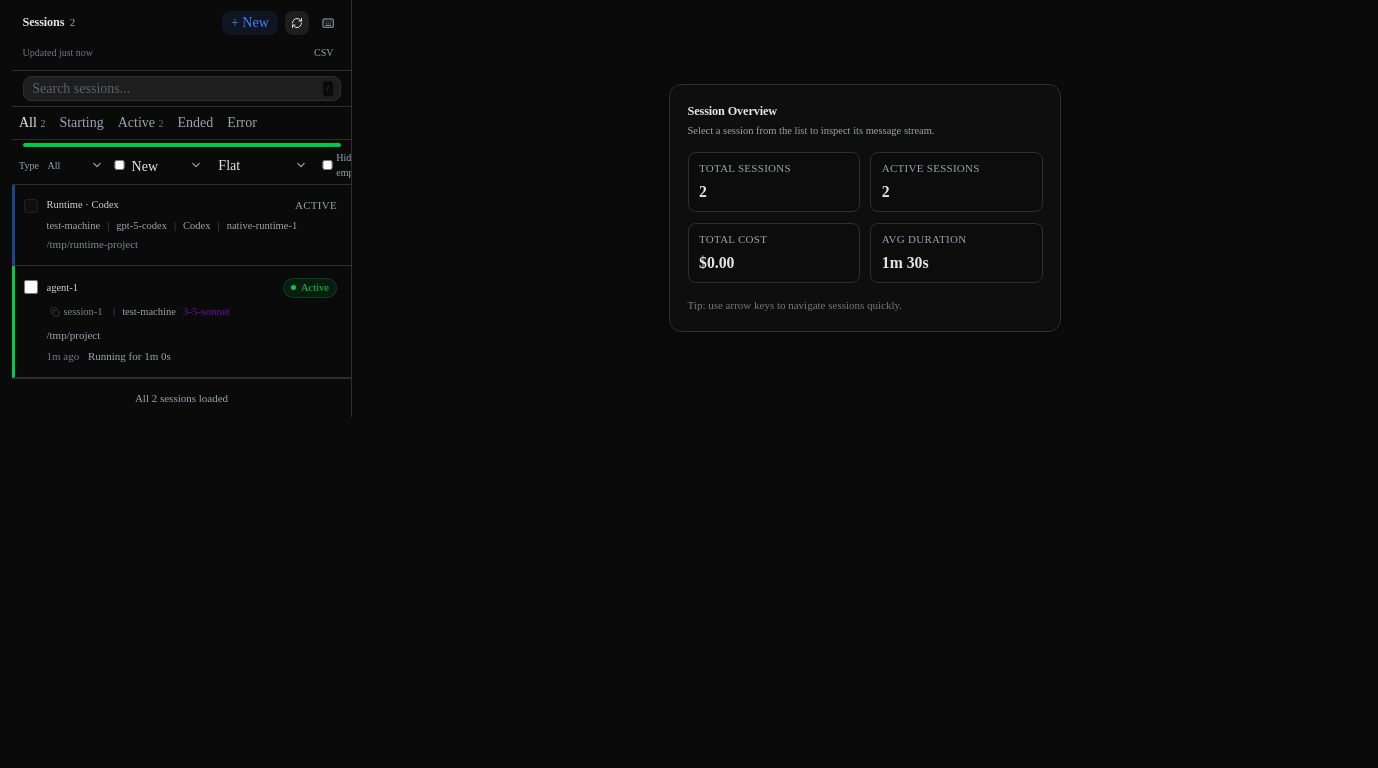
Scenario: SessionsPage › shows runtime-specific detail actions when selecting a runtime row
Click the text "Runtime · Codex".
click(83, 205)  # box [46, 198, 119, 212]
(page scrolled)
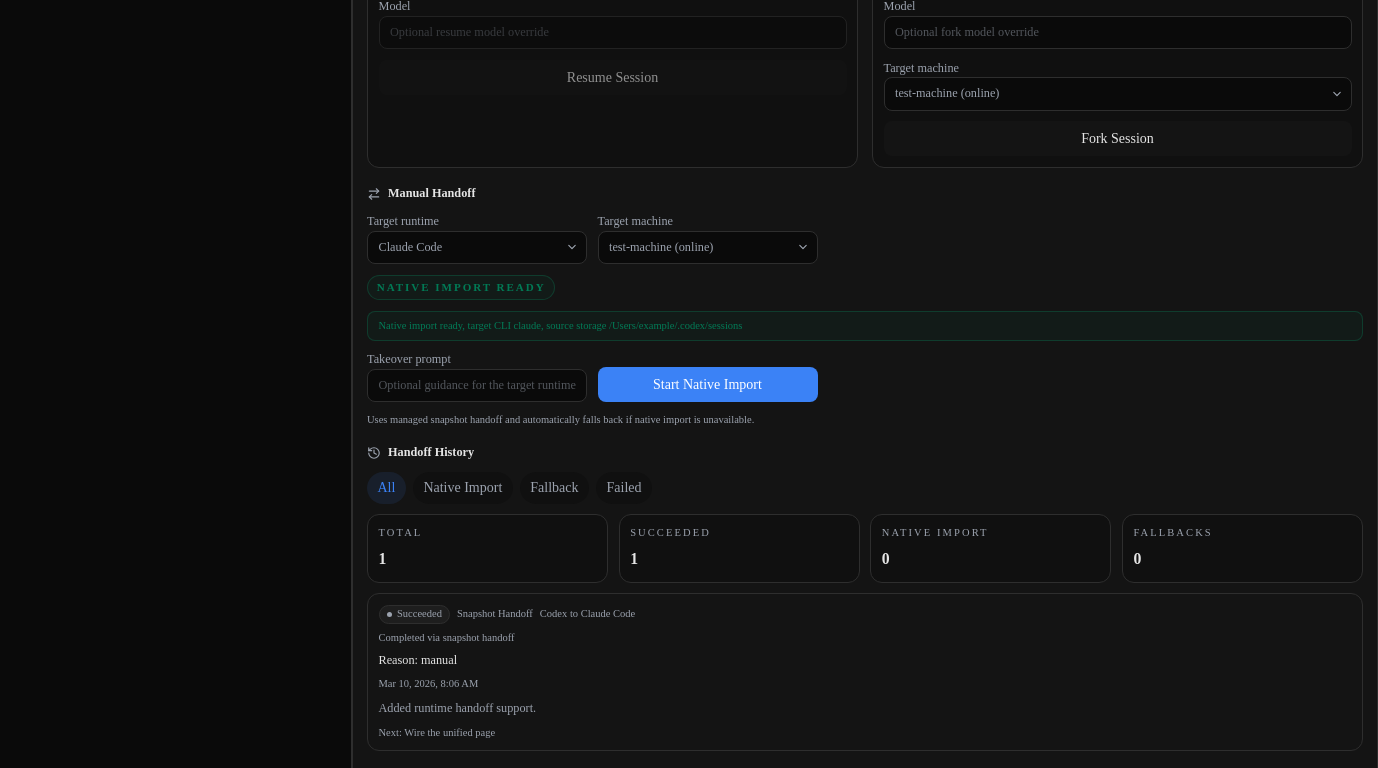
expect the text "Manual Handoff" is shown: met, box [388, 185, 476, 202]
expect the text "Handoff History" is shown: met, box [388, 444, 474, 462]
expect the button "Resume Session" is shown: met, box [378, 60, 846, 94]
